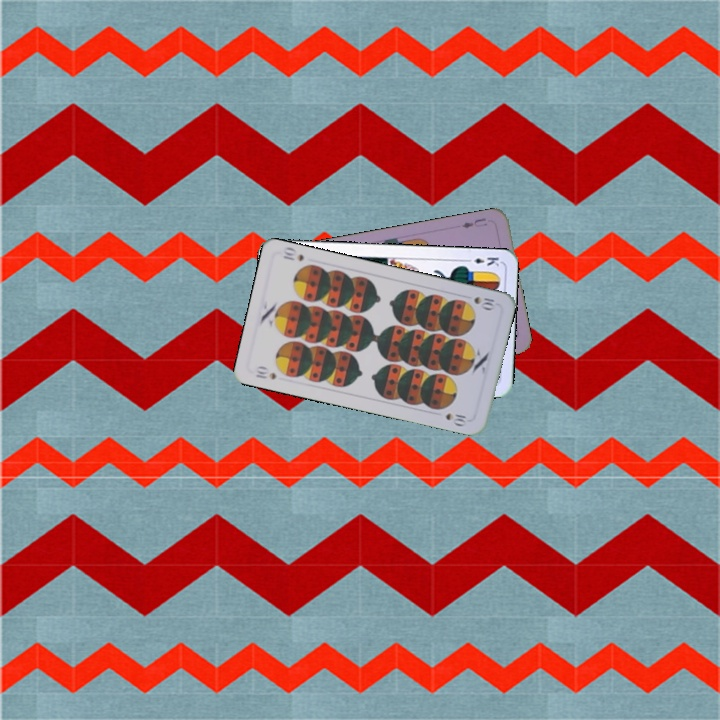EK: (461, 253, 502, 268)
EU: (458, 214, 490, 231)
S10: (470, 292, 497, 312), (252, 362, 278, 382)
